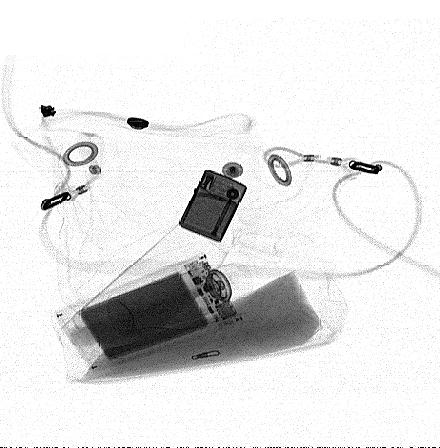Lighter: (179, 170, 248, 242)
Powerbank: (54, 251, 246, 373)
Sprayer: (108, 262, 254, 338)
